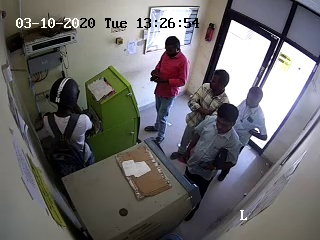helmet: (46, 75, 82, 115)
